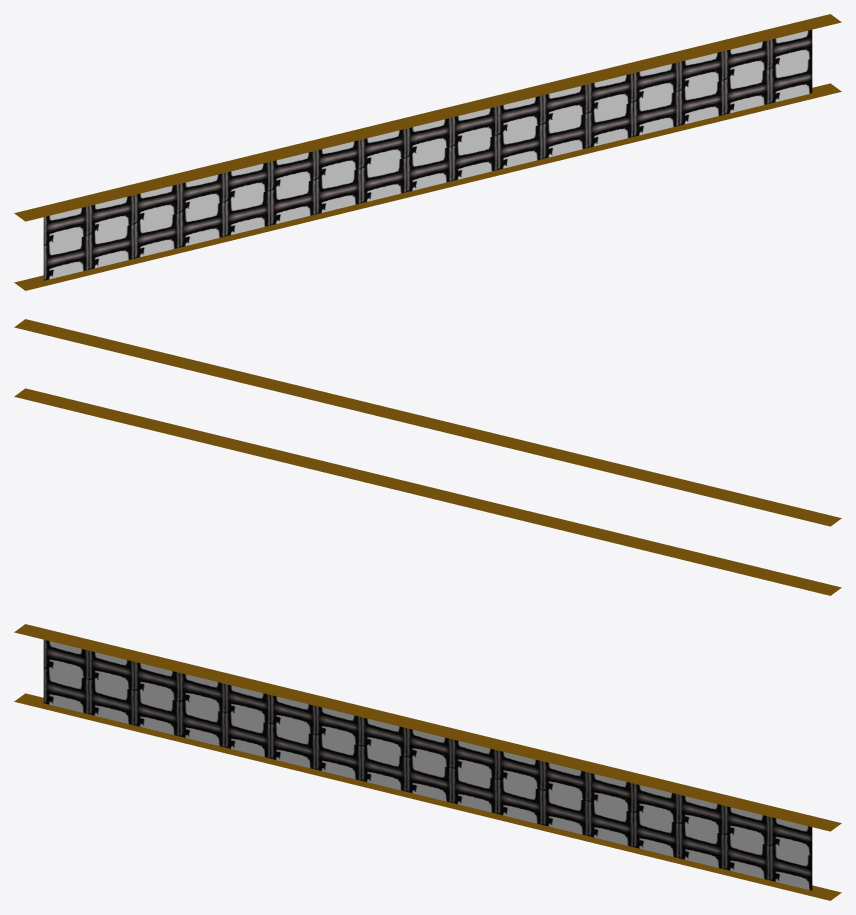
The model's file is Geländer4 [Metallgitter]_1064.glb.
3 renders of one model, top to bottom at view 1: azimuth 30°, elevation 25°; view 2: azimuth 150°, elevation 25°; view 3: azimuth 330°, elevation 25°, orthographic.
Parts seen in each view (by area): view 1: pPlaneShape223, pPlaneShape224, pPlaneShape225; view 2: pPlaneShape224, pPlaneShape225; view 3: pPlaneShape223, pPlaneShape224, pPlaneShape225.
Boxes of the visible parts, box(x1,y1,x2,y2) form: pPlaneShape223: box(43, 30, 812, 280); pPlaneShape224: box(14, 14, 841, 221); pPlaneShape225: box(14, 83, 841, 290); pPlaneShape224: box(14, 319, 841, 526); pPlaneShape225: box(14, 388, 841, 595); pPlaneShape223: box(43, 640, 812, 890); pPlaneShape224: box(14, 624, 841, 831); pPlaneShape225: box(14, 693, 841, 900).
Bounding box in the file's own units: 1 × 0.0811 × 0.0243.
3 materials, 1 textured.
